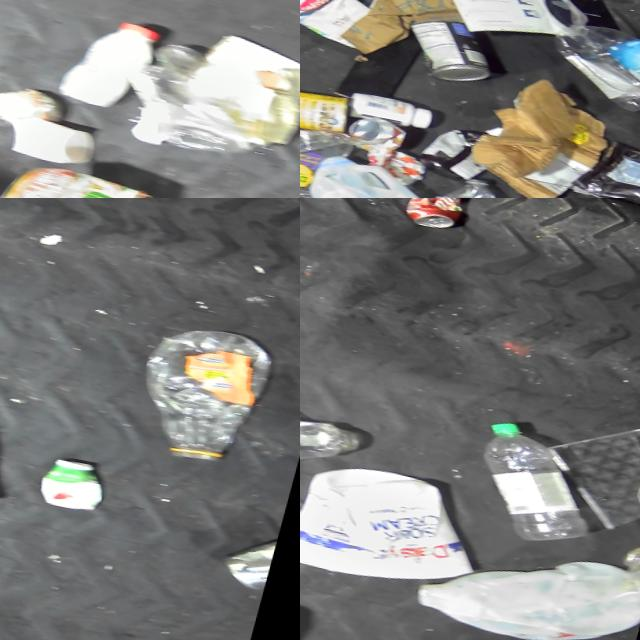can: (402, 12, 509, 90), (346, 116, 435, 178), (223, 524, 287, 590), (393, 198, 472, 233)
milk_jug: (413, 528, 640, 640), (300, 150, 493, 198)
plastic_bottle: (125, 317, 285, 471), (466, 418, 620, 552), (300, 379, 373, 492)
